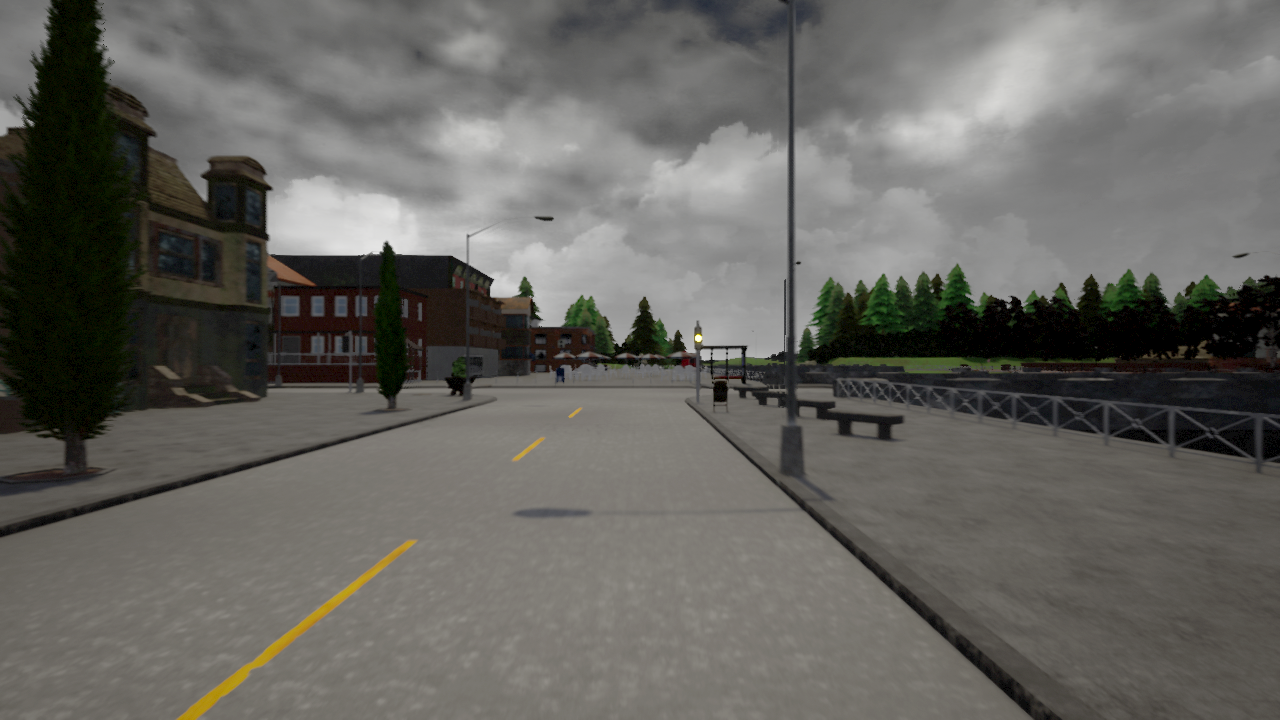yellow: (693, 326, 703, 349)
